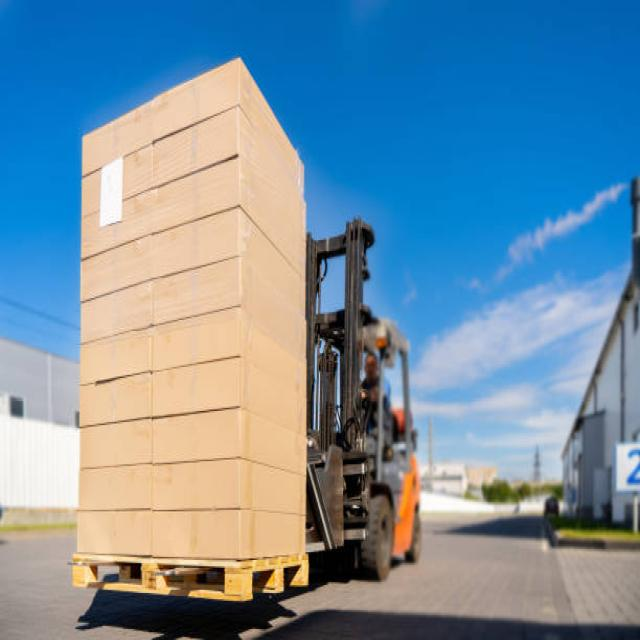Wooden-Pallets: (63, 550, 319, 607)
